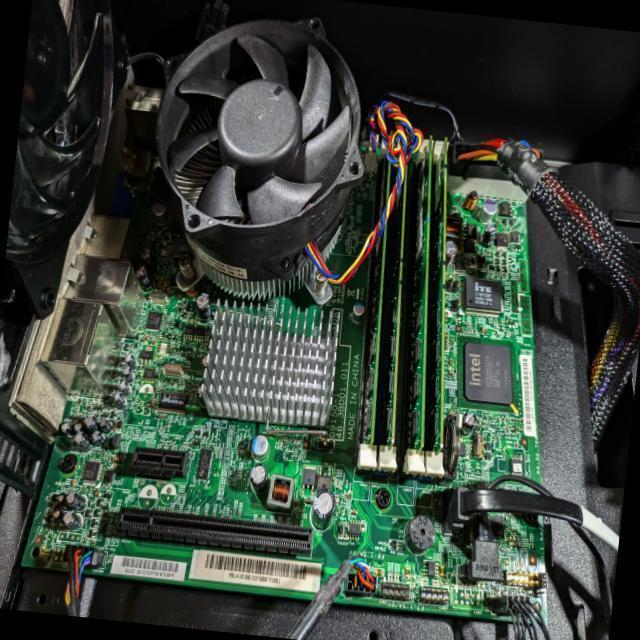CPU_Fan: (140, 10, 370, 310)
Mainboard: (18, 97, 594, 625)
RAM: (398, 138, 477, 480), (381, 136, 458, 474), (346, 132, 412, 471), (367, 133, 432, 477)
